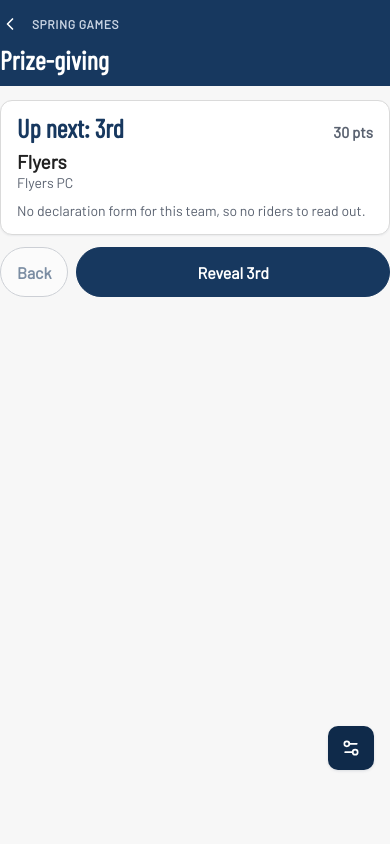
PrizeGivingPage in the dock › moves the set-up into a sheet opened from the dock
Check: the text "Places to give" is not shown
What coordinates should you click on to do the following:
click the button named "Prize-giving set-up"
I would click on:
 (351, 748)
Its box is x1=328 y1=726 x2=374 y2=770.
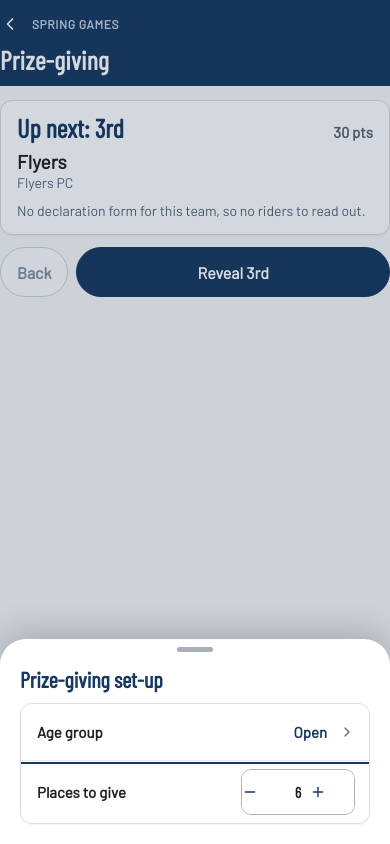
Check: the text "Age group" is shown, box x1=37 y1=723 x2=103 y2=741
Check: the text "Places to give" is shown, box x1=37 y1=783 x2=126 y2=801
